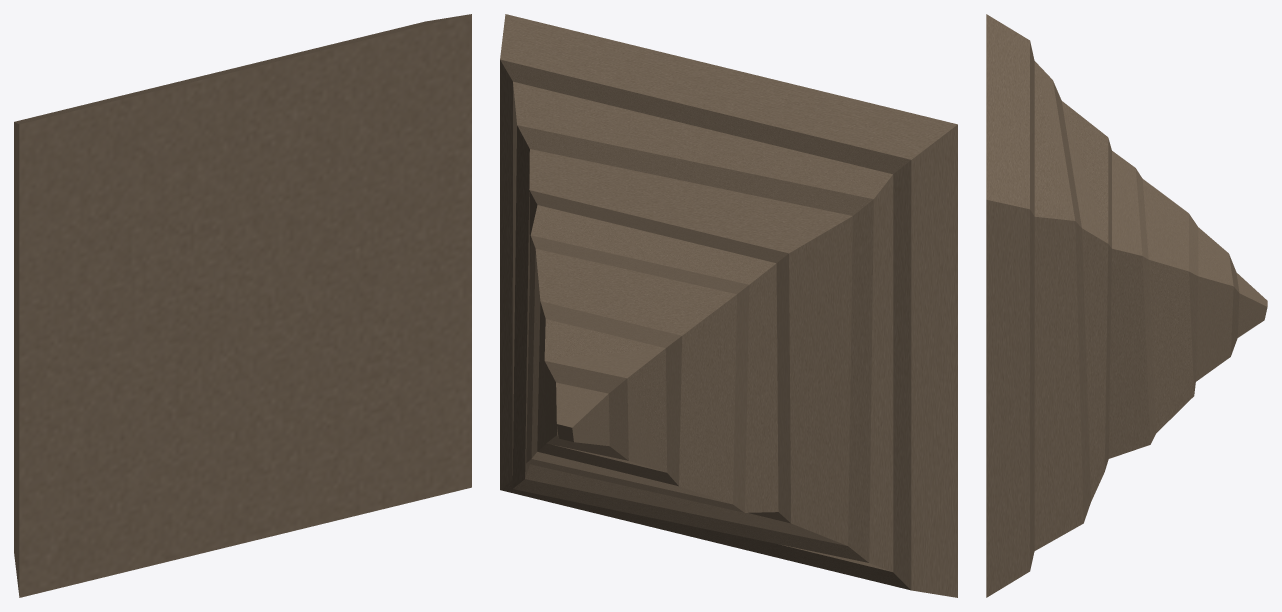
Rendered from desert_share_piramid_2.FBX.
The picture shows the model from 3 angles, left to right: view 1: azimuth 30°, elevation 25°; view 2: azimuth 150°, elevation 25°; view 3: azimuth 270°, elevation 25°; orthographic projection. The views are drawn at different scales.
Visible parts, largest first — view 1: desert_pyramid_3; view 2: desert_pyramid_3; view 3: desert_pyramid_3.
Boxes of the visible parts, x1,y1,x2,y2 form: desert_pyramid_3: [14, 14, 471, 597]; desert_pyramid_3: [500, 14, 957, 597]; desert_pyramid_3: [986, 14, 1267, 597].
Size of the model in its own units: 544 by 544 by 348.
